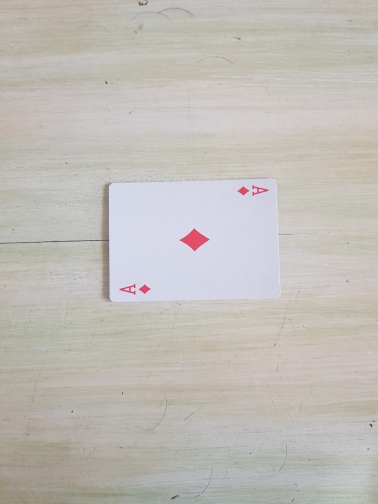ace: (107, 178, 282, 304)
